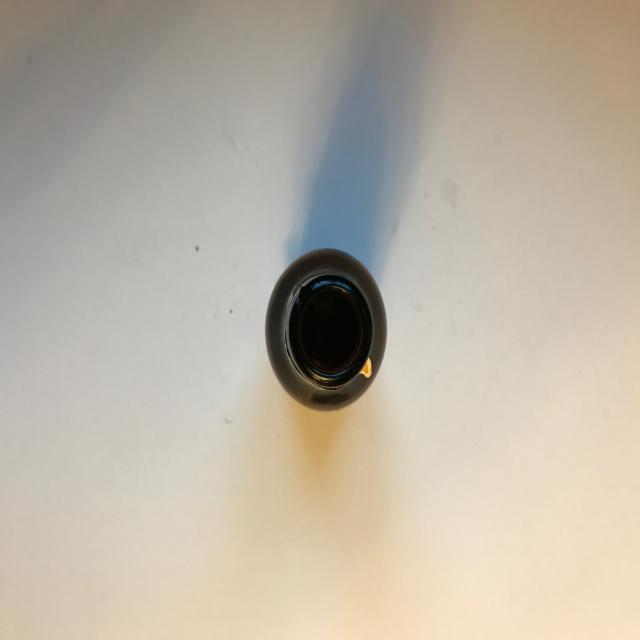glass: (264, 246, 388, 412)
